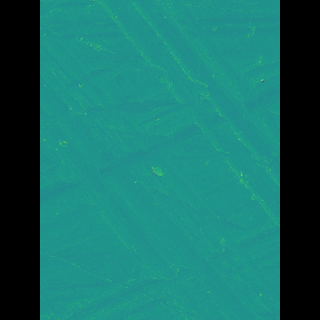Loch: (83, 16, 241, 308)
